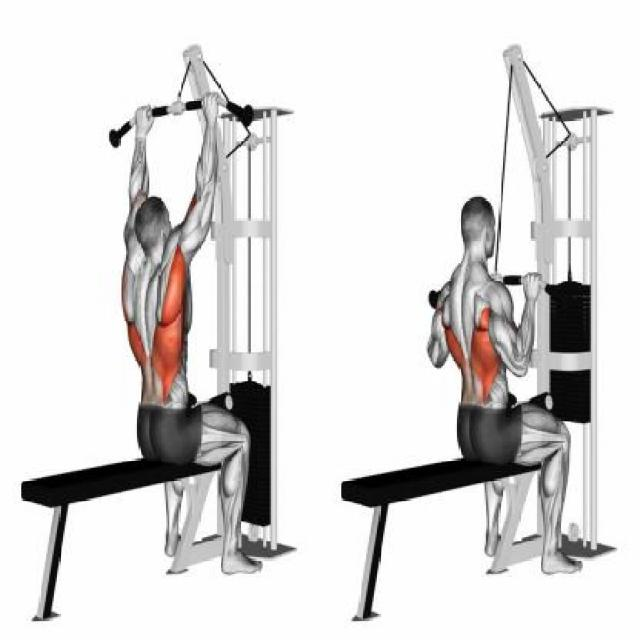Lat Pull Down: (342, 37, 620, 626), (20, 37, 298, 623)
